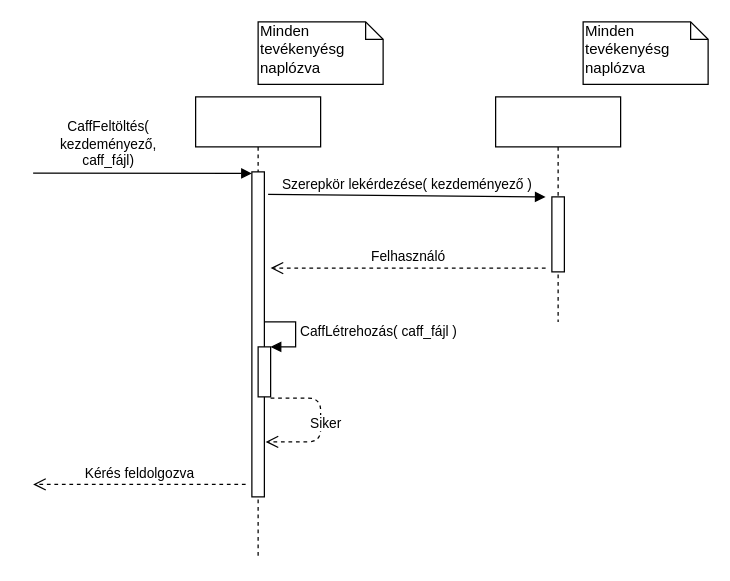
Image size: 730x581. Some labels were removed from this diagram. Each missing label, with the centre of its shape:
c: CAFF Fájl Kezelő: the point at 257,327
f: Felhasználói Adatkezelő: the point at 557,209
